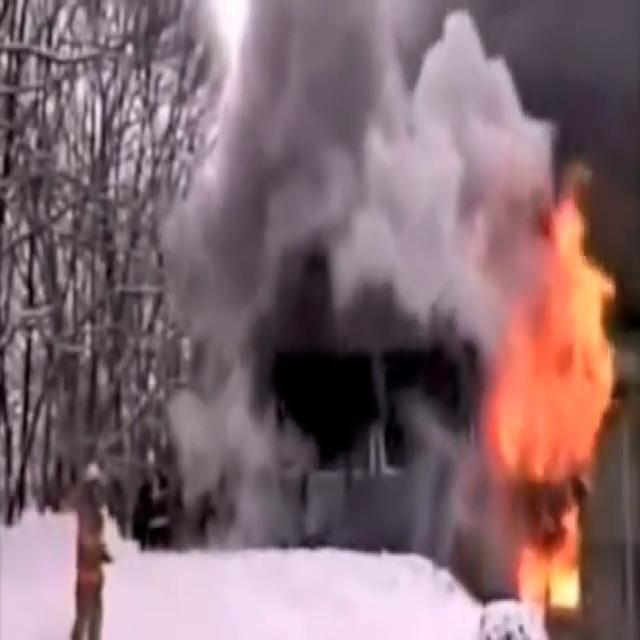Fire: (485, 175, 630, 621)
Smoke: (151, 0, 554, 574)
